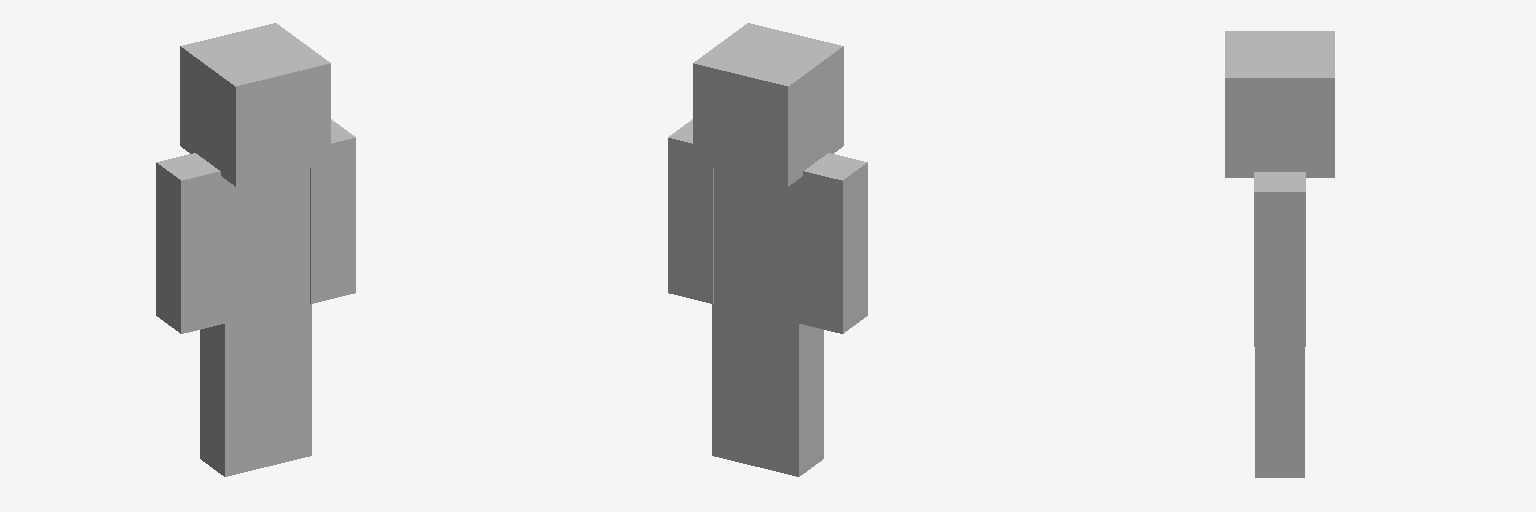
Rendered from vl_cosmetics_arm_left.obj.
3 views of the same model, side by side, from view 1: azimuth 30°, elevation 25°; view 2: azimuth 150°, elevation 25°; view 3: azimuth 270°, elevation 25° (orthographic).
Visible parts, largest first — view 1: ArmlPreview_Cube.018, Arm_Left_Cube.004; view 2: ArmlPreview_Cube.018, Arm_Left_Cube.004; view 3: ArmlPreview_Cube.018, Arm_Left_Cube.004.
Boxes of the visible parts, x1=… form: ArmlPreview_Cube.018: x1=156, y1=23, x2=330, y2=476; Arm_Left_Cube.004: x1=310, y1=119, x2=355, y2=303; ArmlPreview_Cube.018: x1=693, y1=23, x2=867, y2=476; Arm_Left_Cube.004: x1=668, y1=119, x2=713, y2=303; ArmlPreview_Cube.018: x1=1225, y1=31, x2=1334, y2=477; Arm_Left_Cube.004: x1=1254, y1=172, x2=1305, y2=346.
Size of the model in its own units: 8.02 by 17.7 by 4.4.